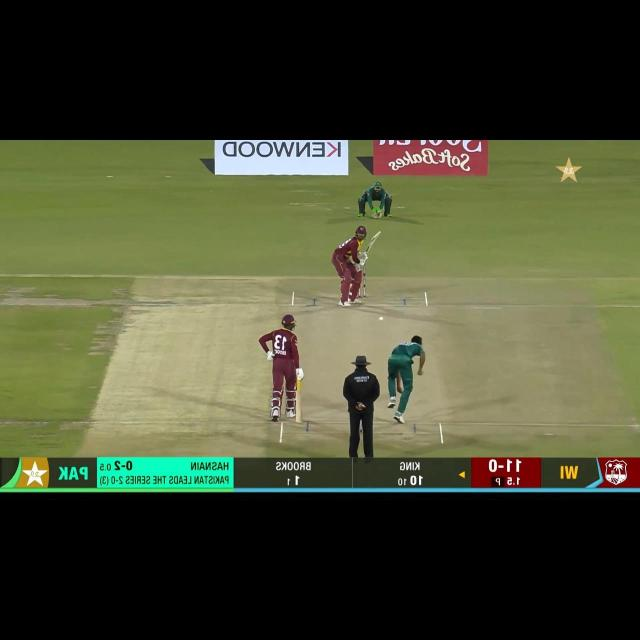bat: (364, 230, 382, 252), (294, 391, 302, 424)
toe: (294, 418, 303, 424), (376, 231, 381, 235)
